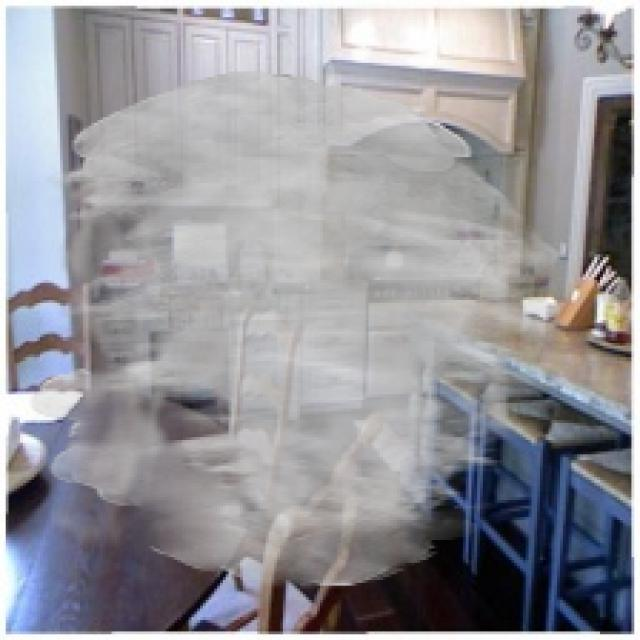Smoke: (29, 71, 572, 588)
